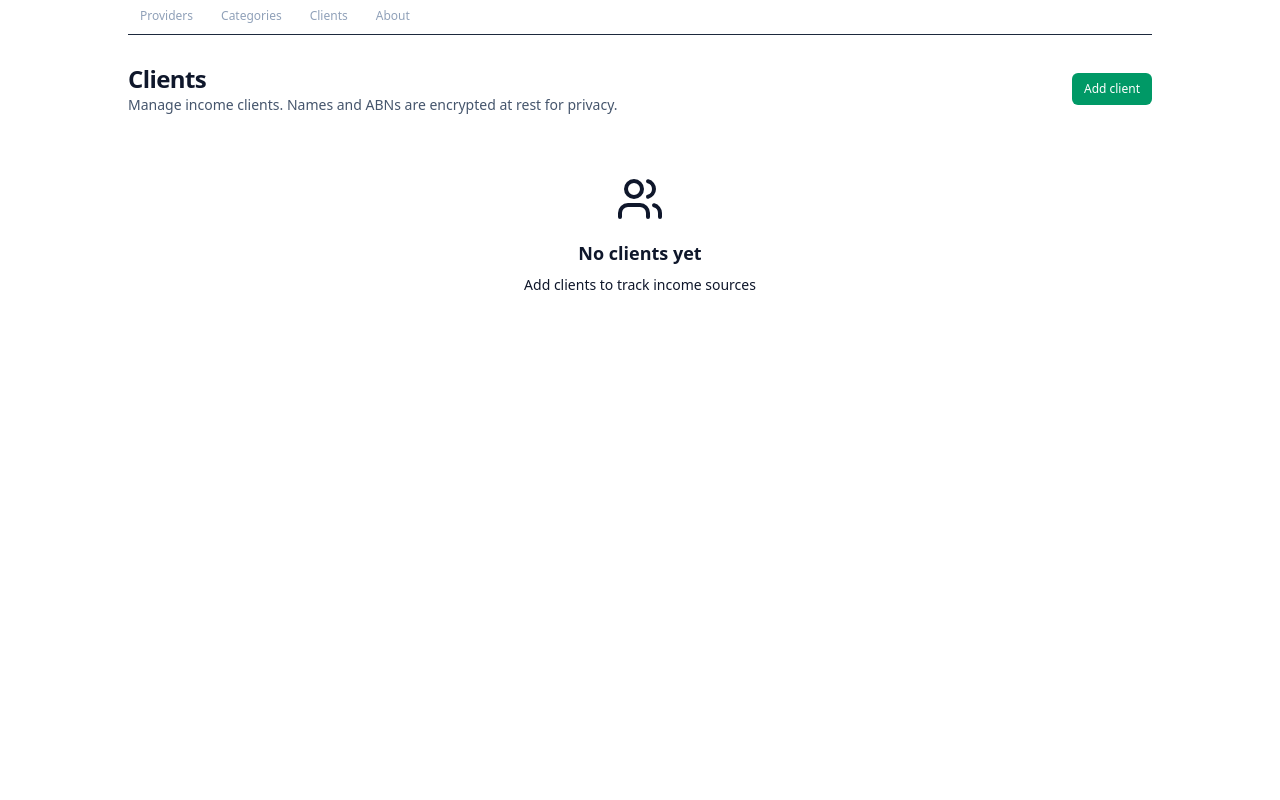
ClientsPage › opens create modal when Add client button is clicked
Click the button "Add client".
click(1112, 89)  # box [1072,73,1152,105]
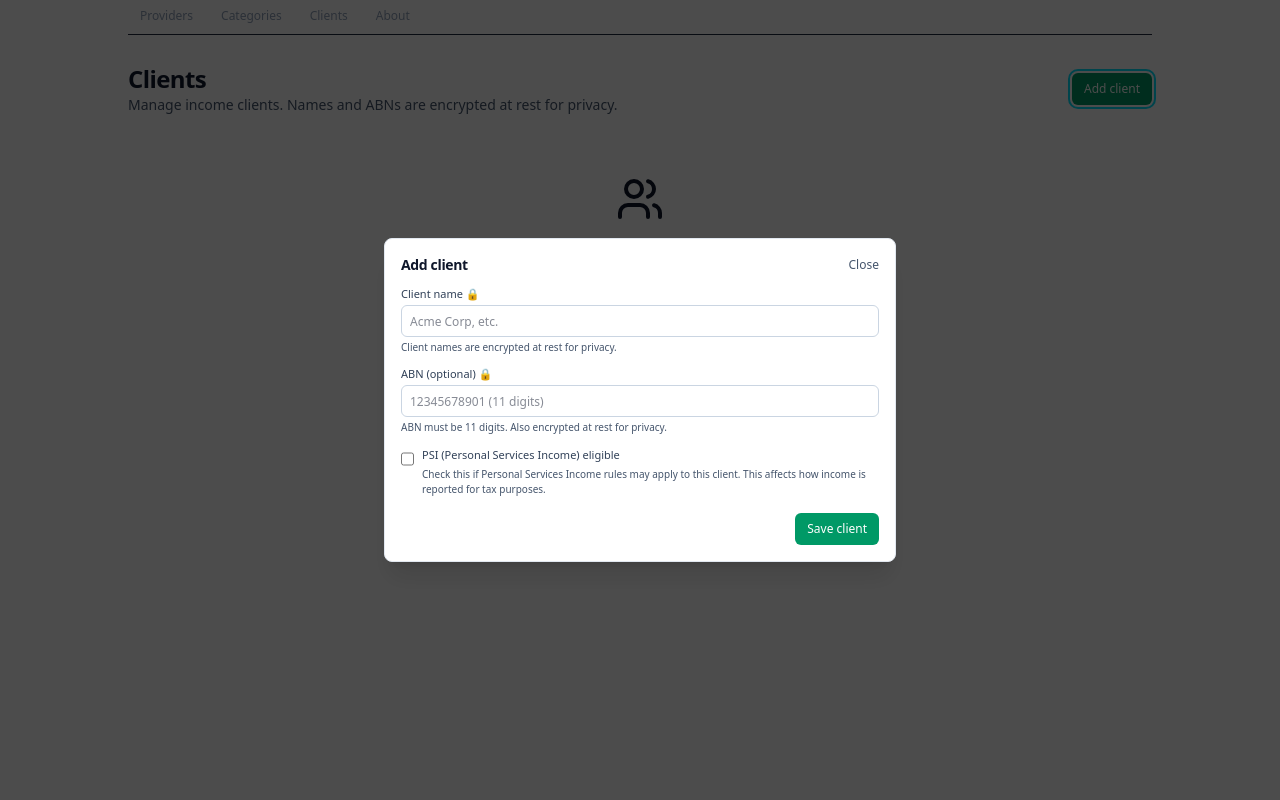
Expected: the dialog "Add client" is shown
Expected: the field labelled "Client name 🔒" is shown, [401,305,879,337]
